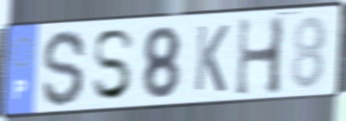8: (139, 23, 184, 100), (288, 13, 330, 92)
H: (234, 14, 288, 99)
K: (192, 23, 232, 95)
S: (40, 28, 89, 110), (90, 27, 138, 104)
